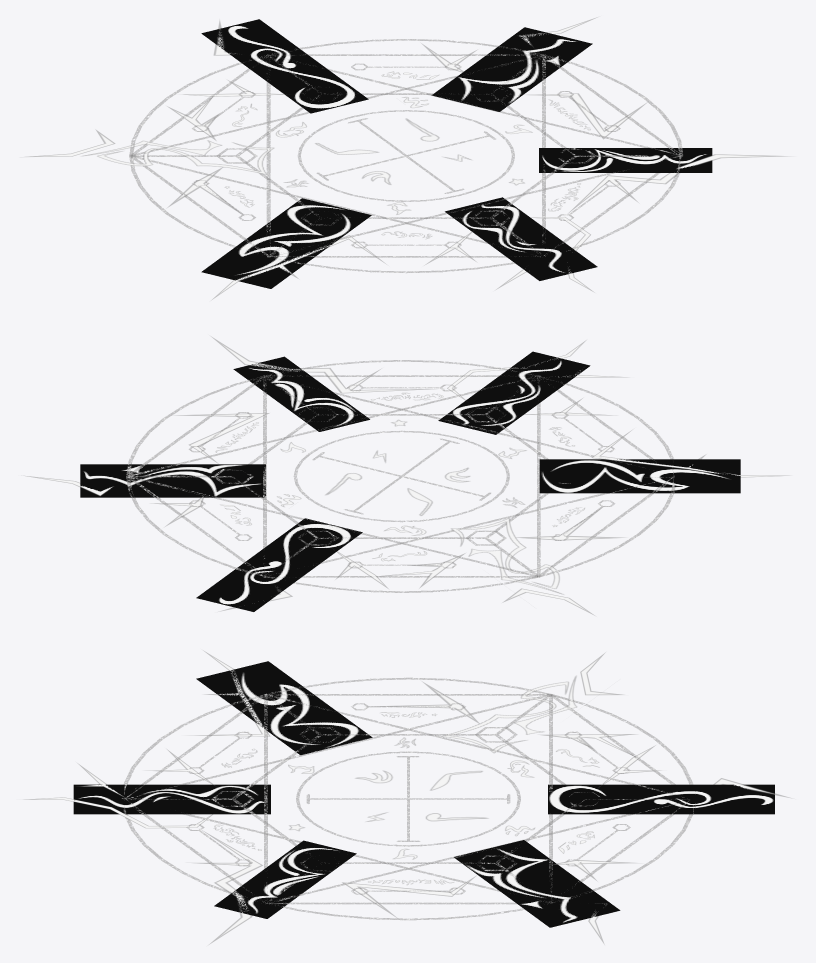
The model's file is si_hex_0603.glb.
3 renders of one model, top to bottom at view 1: azimuth 30°, elevation 25°; view 2: azimuth 150°, elevation 25°; view 3: azimuth 270°, elevation 25°, orthographic. The views are drawn at different scales.
Parts seen in each view (by area): view 1: layer_02_si_hex_0601, layer_00_si_eos_1003, layer_01_si_hex_0600; view 2: layer_02_si_hex_0601, layer_00_si_eos_1003, layer_01_si_hex_0600; view 3: layer_02_si_hex_0601, layer_00_si_eos_1003, layer_01_si_hex_0600.
Boxes of the visible parts, <box> form: layer_02_si_hex_0601: <box>201,19,712,288</box>; layer_00_si_eos_1003: <box>129,39,682,272</box>; layer_01_si_hex_0600: <box>28,18,785,299</box>; layer_02_si_hex_0601: <box>80,351,740,611</box>; layer_00_si_eos_1003: <box>126,360,674,592</box>; layer_01_si_hex_0600: <box>27,337,787,614</box>; layer_02_si_hex_0601: <box>73,661,774,927</box>; layer_00_si_eos_1003: <box>122,677,693,920</box>; layer_01_si_hex_0600: <box>26,651,788,943</box>.
Size of the model in its own units: 34828 by 0.0029 by 38423.
Materials: 3 (3 with a texture image).
